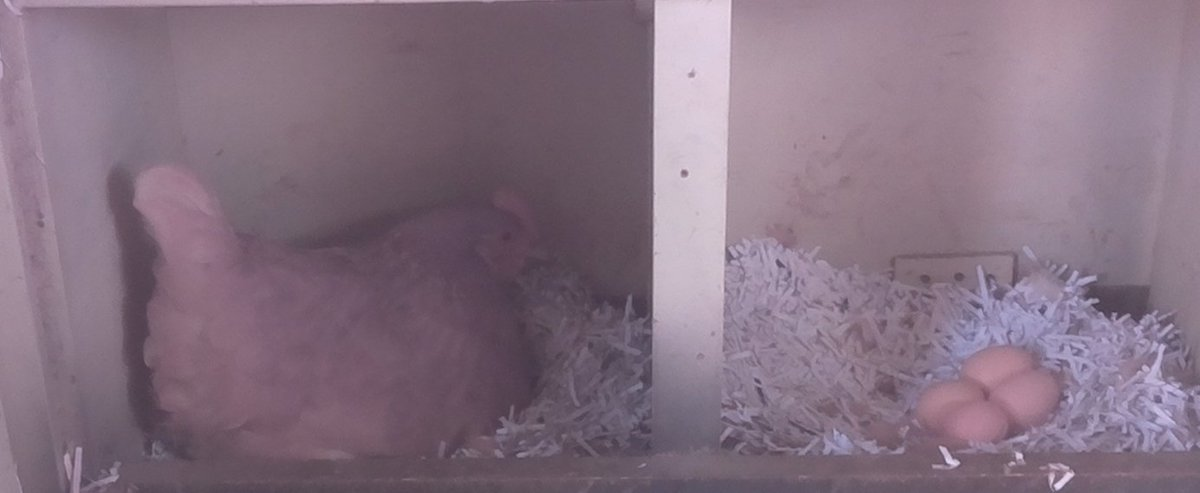egg: (990, 368, 1071, 428), (955, 341, 1046, 387), (941, 399, 1012, 449), (912, 379, 989, 422)
hen: (123, 163, 554, 448)
